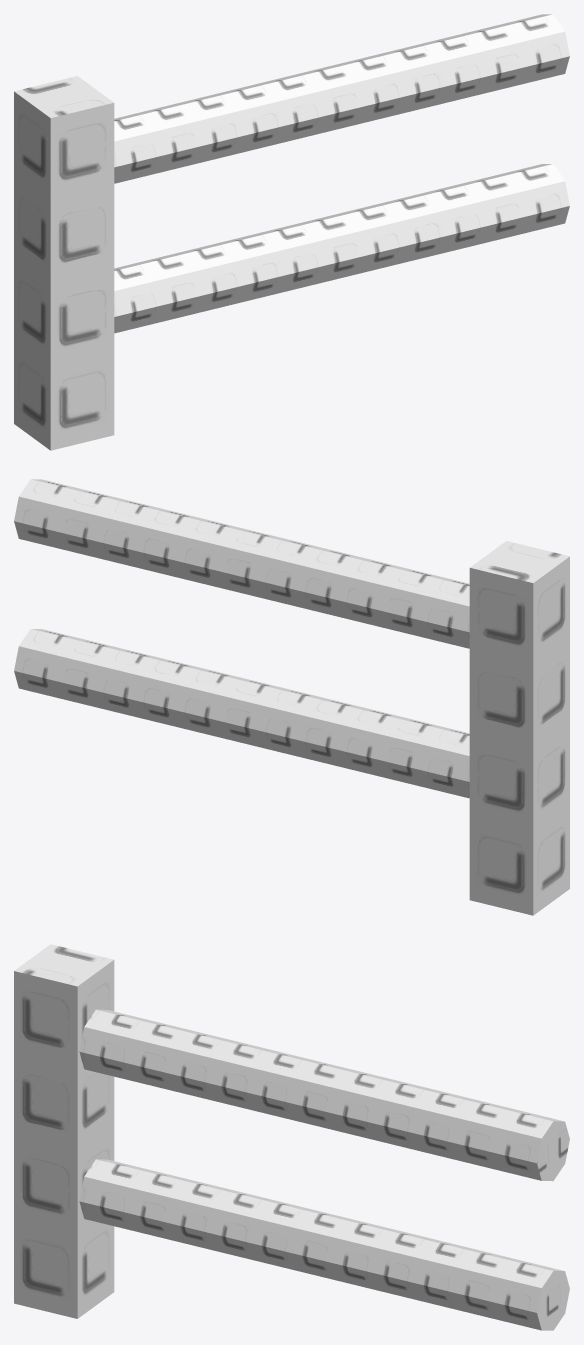
Rendered from SM_Fence.fbx.
3 views of the same model, one above another, from view 1: azimuth 30°, elevation 25°; view 2: azimuth 150°, elevation 25°; view 3: azimuth 330°, elevation 25° (orthographic).
Visible parts, largest first — view 1: Cube; view 2: Cube; view 3: Cube.
Part boxes in pixels (x1,y1,x2,y2): Cube: (14, 14, 569, 450); Cube: (14, 479, 569, 915); Cube: (14, 944, 569, 1330).
Size of the model in its own units: 328 by 200 by 40.
